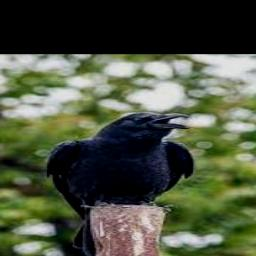Crow: (46, 112, 196, 256)
